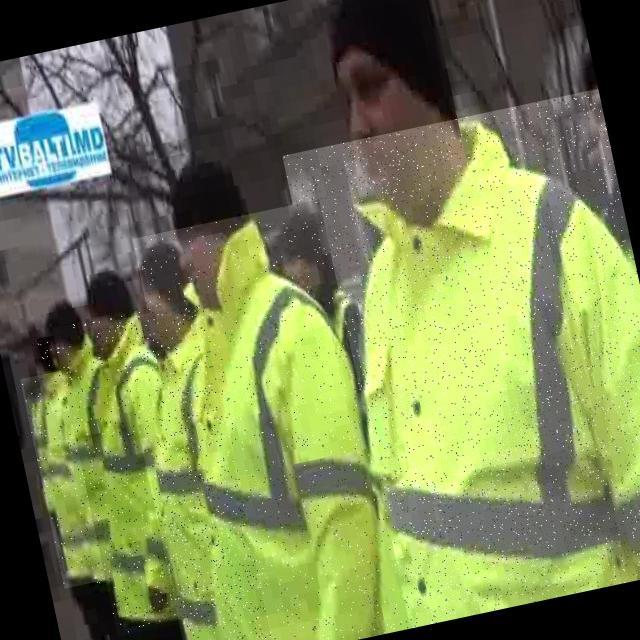Safety Vest: (281, 88, 640, 633), (132, 198, 410, 640), (114, 301, 275, 640), (53, 307, 216, 636), (37, 325, 151, 587), (20, 368, 113, 588)
